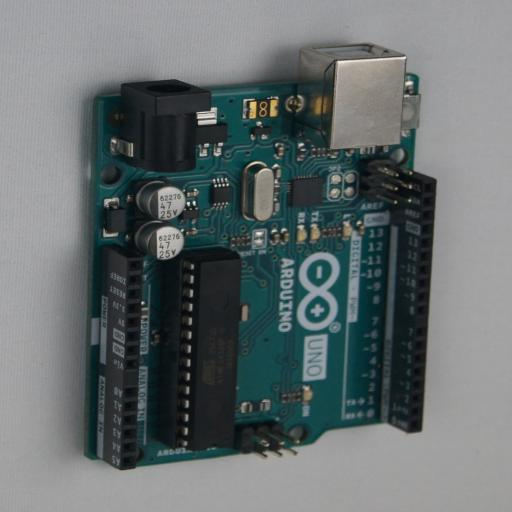Arduino Uno -Green-: (75, 44, 436, 470)
